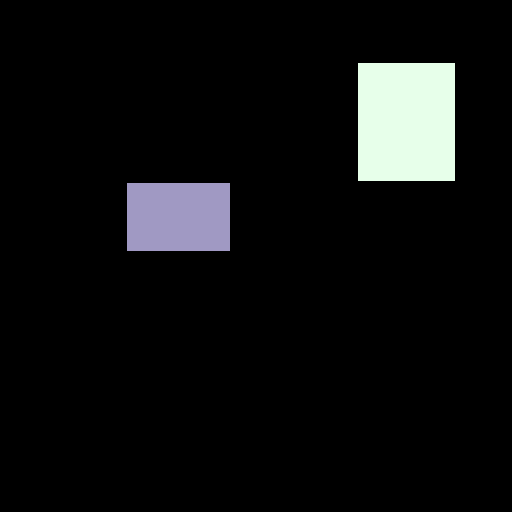rectangle: (358, 63, 454, 180), (127, 183, 229, 250)
